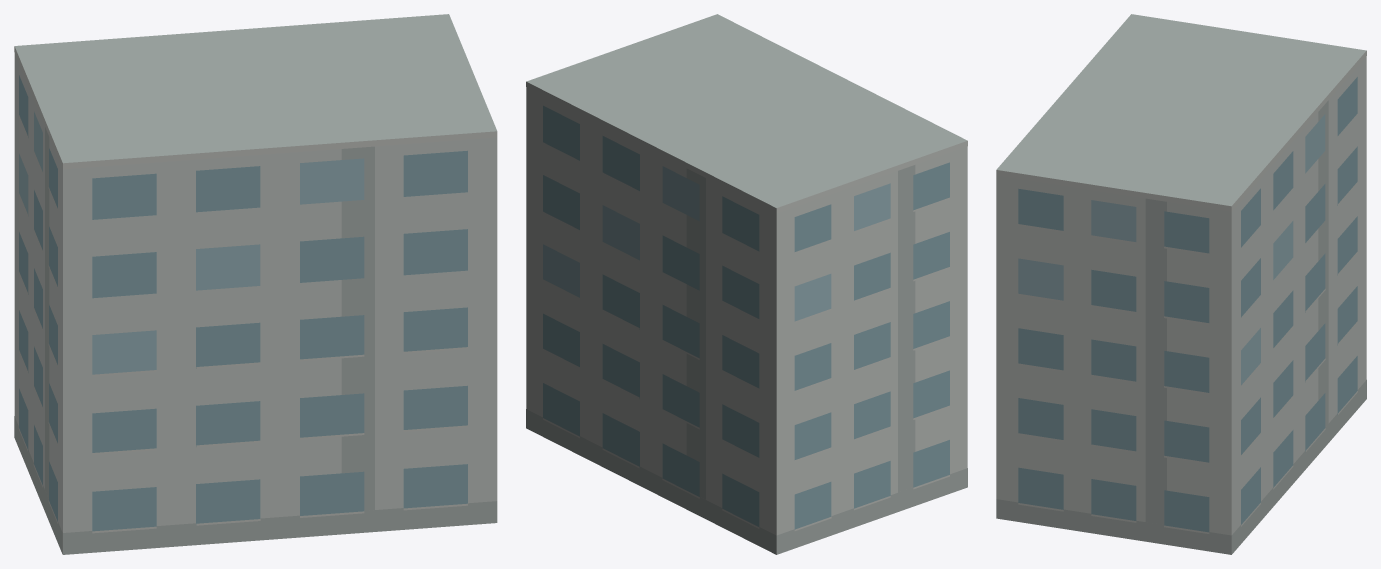
Rendered from residential-6e90be23-a925-4e18-af39-fe559357ee28.glb.
3 renders of one model, left to right at view 1: azimuth 30°, elevation 25°; view 2: azimuth 150°, elevation 25°; view 3: azimuth 270°, elevation 25°, orthographic. The views are drawn at different scales.
Visible parts, largest first — view 1: residential-6e90be23-a925-4e18-af39-fe559357ee28.tmp; view 2: residential-6e90be23-a925-4e18-af39-fe559357ee28.tmp; view 3: residential-6e90be23-a925-4e18-af39-fe559357ee28.tmp.
Part boxes in pixels (<box>): residential-6e90be23-a925-4e18-af39-fe559357ee28.tmp: <box>14,14,497,554</box>; residential-6e90be23-a925-4e18-af39-fe559357ee28.tmp: <box>526,14,967,554</box>; residential-6e90be23-a925-4e18-af39-fe559357ee28.tmp: <box>996,14,1366,554</box>.
Size of the model in its own units: 18.04 by 15.25 by 14.69.
